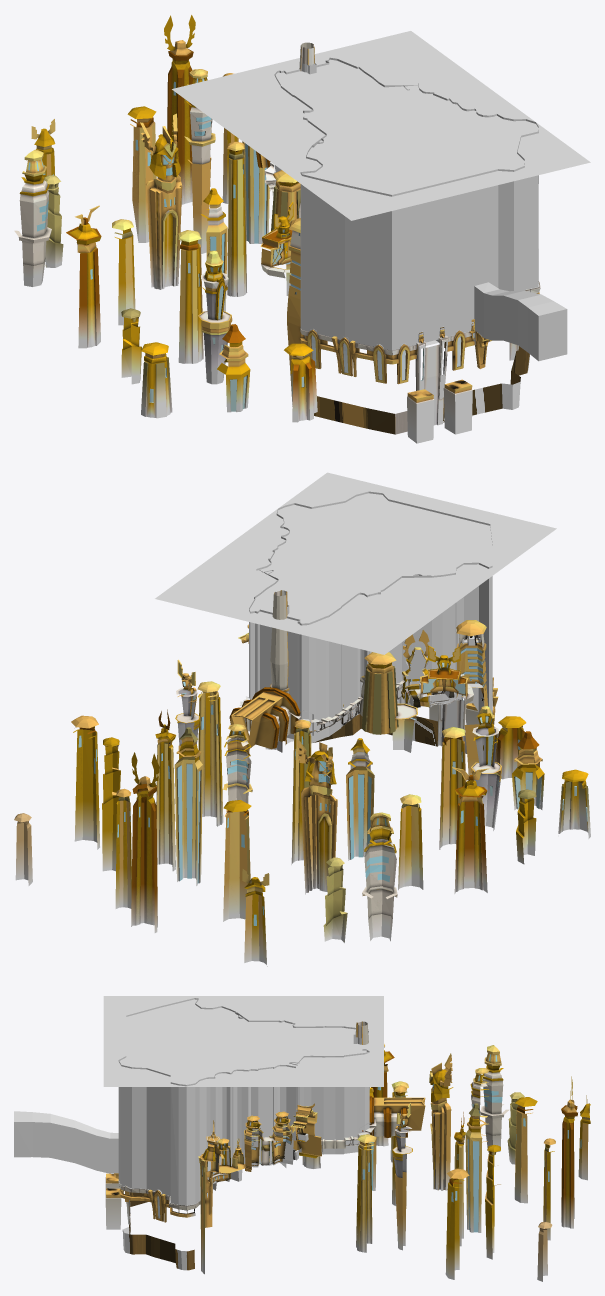
The model's file is Realm_1.fbx.
3 views of the same model, one above another, from view 1: azimuth 30°, elevation 25°; view 2: azimuth 150°, elevation 25°; view 3: azimuth 270°, elevation 25° (orthographic). The views are drawn at different scales.
Visible parts, largest first — view 1: Realm_Baked1, Realm_Col12, Realm_Col20, Realm_Col22, Realm_Col17, Realm_Baked2, Realm_Col10, Realm_Col11, Realm_Col23, Realm_Col8, Realm_Col4, Realm_Col9 (+8 smaller); view 2: Realm_Baked1, Realm_Col20, Realm_Col12, Realm_Baked2, Realm_Col21, Realm_Col23, Realm_Glow2, Realm_Col24, Realm_Glow1, Realm_Col15, Realm_Baked3, Realm_Baked4 (+3 smaller); view 3: Realm_Baked1, Realm_Col12, Realm_Col20, Realm_Baked2, Realm_Col4, Realm_Col6, Realm_Baked3, Realm_Col15, Realm_Col2, Realm_Col5, Realm_Col9, Realm_Col10 (+9 smaller).
Part boxes in pixels (bbox=[...]): Realm_Baked1: bbox=[14, 15, 434, 443]; Realm_Col12: bbox=[351, 31, 590, 220]; Realm_Col20: bbox=[172, 31, 410, 220]; Realm_Col22: bbox=[302, 174, 391, 350]; Realm_Col17: bbox=[392, 181, 454, 350]; Realm_Baked2: bbox=[256, 42, 539, 434]; Realm_Col10: bbox=[448, 169, 522, 340]; Realm_Col11: bbox=[448, 169, 498, 345]; Realm_Col23: bbox=[300, 151, 344, 339]; Realm_Col8: bbox=[528, 301, 567, 361]; Realm_Col4: bbox=[517, 131, 538, 289]; Realm_Col9: bbox=[504, 291, 553, 352]; Realm_Baked1: bbox=[14, 645, 590, 966]; Realm_Col20: bbox=[155, 528, 556, 727]; Realm_Col12: bbox=[155, 472, 556, 598]; Realm_Baked2: bbox=[229, 590, 444, 752]; Realm_Col21: bbox=[260, 607, 340, 743]; Realm_Col23: bbox=[429, 562, 492, 713]; Realm_Glow2: bbox=[227, 731, 477, 925]; Realm_Col24: bbox=[402, 574, 455, 704]; Realm_Glow1: bbox=[78, 682, 217, 883]; Realm_Col15: bbox=[246, 588, 297, 739]; Realm_Baked3: bbox=[238, 620, 487, 705]; Realm_Baked4: bbox=[265, 630, 437, 752]; Realm_Baked1: bbox=[105, 1044, 590, 1281]; Realm_Col12: bbox=[103, 996, 382, 1086]; Realm_Col20: bbox=[104, 996, 383, 1086]; Realm_Baked2: bbox=[105, 1021, 425, 1270]; Realm_Col4: bbox=[121, 1065, 170, 1202]; Realm_Col6: bbox=[226, 1067, 278, 1181]; Realm_Baked3: bbox=[244, 1103, 321, 1171]; Realm_Col15: bbox=[323, 1034, 372, 1154]; Realm_Col2: bbox=[178, 1080, 199, 1205]; Realm_Col5: bbox=[195, 1072, 226, 1200]; Realm_Col9: bbox=[32, 1112, 74, 1162]; Realm_Col10: bbox=[75, 1056, 126, 1173].
Size of the model in its own units: 467 by 293 by 741.
Materials: 44 (8 with a texture image).
